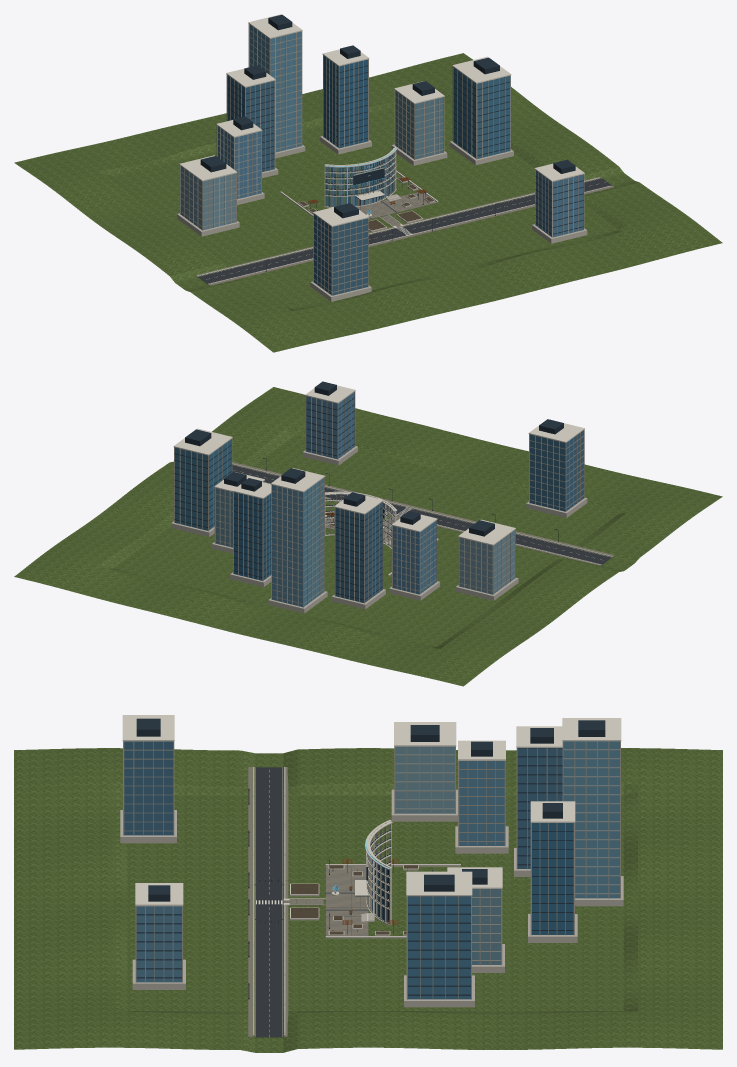
Rendered from site-v2.glb.
3 renders of one model, top to bottom at view 1: azimuth 30°, elevation 25°; view 2: azimuth 150°, elevation 25°; view 3: azimuth 270°, elevation 25°, orthographic. The views are drawn at different scales.
Parts seen in each view (by area): view 1: contoured landscape context, context recessed glazing (×7), context facade piers, context floor spandrels (×2), context crown cap, context side piers, aggregate road wearing course, context stone podium, context roof service core, south sidewalk, individual road curb units, continuous cantilever floor edge (+1 smaller); view 2: contoured landscape context, context recessed glazing (×7), context facade piers, context floor spandrels (×2), context side piers, context crown cap, context stone podium, context roof service core, aggregate road wearing course, south sidewalk, individual road curb units; view 3: contoured landscape context, context recessed glazing (×7), context crown cap, aggregate road wearing course, context floor spandrels (×2), context side piers, context stone podium, context roof service core, context facade piers, south sidewalk, individual road curb units, context north sidewalk (+3 smaller).
Boxes of the visible parts, box(x1,y1,x2,y2) form: contoured landscape context: box(14, 53, 722, 352); context recessed glazing (×7): box(180, 24, 583, 295); context facade piers: box(202, 31, 584, 295); context floor spandrels (×2): box(180, 30, 583, 292); context crown cap: box(179, 14, 584, 226); context side piers: box(180, 24, 552, 295); aggregate road wearing course: box(197, 178, 611, 284); context stone podium: box(177, 136, 587, 301); context roof service core: box(200, 14, 575, 218); south sidewalk: box(208, 185, 614, 285); individual road curb units: box(197, 177, 610, 284); continuous cantilever floor edge: box(324, 154, 396, 207); contoured landscape context: box(14, 387, 722, 686); context recessed glazing (×7): box(175, 392, 583, 607); context facade piers: box(174, 396, 565, 607); context floor spandrels (×2): box(174, 397, 583, 604); context side piers: box(174, 391, 584, 607); context crown cap: box(173, 385, 584, 545); context stone podium: box(171, 446, 587, 613); context roof service core: box(185, 381, 563, 536); aggregate road wearing course: box(232, 464, 611, 564); south sidewalk: box(232, 462, 614, 556); individual road curb units: box(232, 463, 612, 564); contoured landscape context: box(14, 748, 722, 1052); context recessed glazing (×7): box(124, 741, 619, 999); context crown cap: box(122, 715, 621, 906); aggregate road wearing course: box(255, 767, 283, 1037); context floor spandrels (×2): box(124, 741, 619, 995); context side piers: box(123, 741, 620, 999); context stone podium: box(120, 789, 623, 1007); context roof service core: box(136, 718, 605, 901); context facade piers: box(123, 741, 620, 999); south sidewalk: box(248, 767, 253, 1036); individual road curb units: box(253, 767, 285, 1035); context north sidewalk: box(284, 767, 288, 1036).
Size of the model in its own units: 200 by 54.05 by 200.
Materials: 30 (13 with a texture image).
